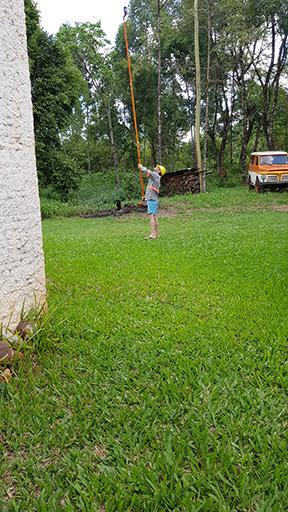Vara_Manobra: (122, 15, 145, 201)
